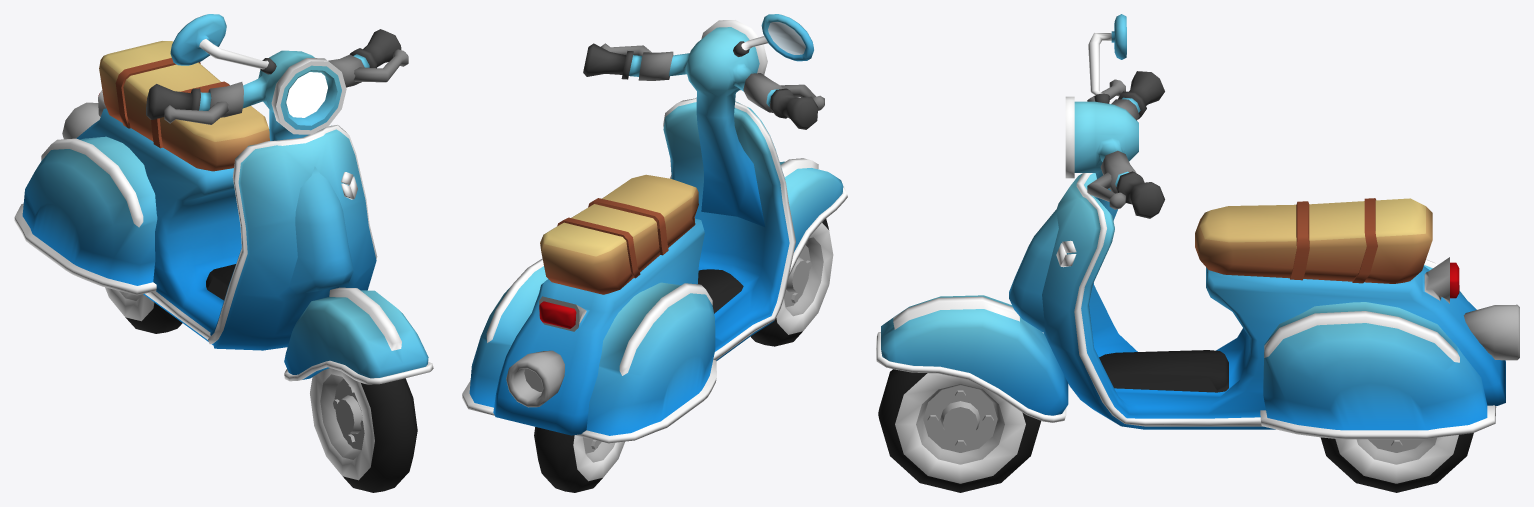
File: scooter.glb
3 renders of one model, left to right at view 1: azimuth 30°, elevation 25°; view 2: azimuth 150°, elevation 25°; view 3: azimuth 270°, elevation 25°, orthographic. The views are drawn at different scales.
Visible parts, largest first — view 1: Cube; view 2: Cube; view 3: Cube.
Boxes of the visible parts, <box> form: Cube: <box>14,14,433,492</box>; Cube: <box>462,14,847,492</box>; Cube: <box>876,14,1519,492</box>.
Bounding box in the file's own units: 1.25 × 2.05 × 2.76.
10 materials, 2 textured.
